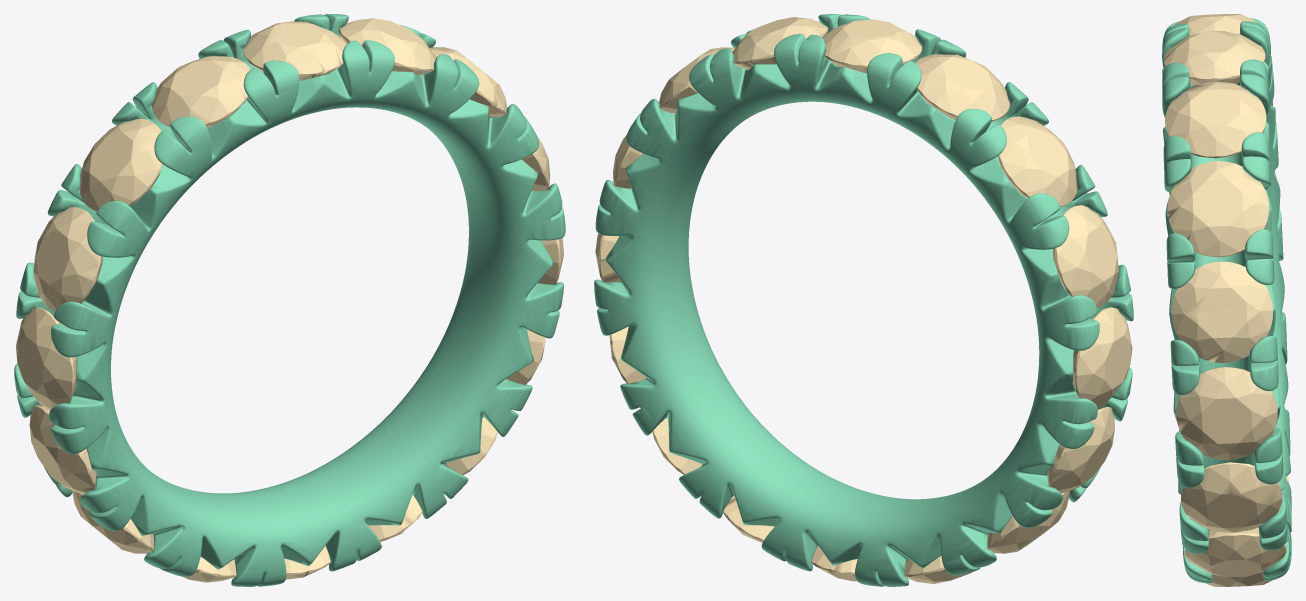
3 renders of one model, left to right at view 1: azimuth 30°, elevation 25°; view 2: azimuth 150°, elevation 25°; view 3: azimuth 270°, elevation 25°, orthographic. The views are drawn at different scales.
Visible parts, largest first — view 1: Metal02, Diamond_Round.012, Diamond_Round.013, Diamond_Round.011, Diamond_Round.014, Diamond_Round.010, Diamond_Round.015, Diamond_Round.009, Diamond_Round.001, Diamond_Round.008, Diamond_Round, Diamond_Round.005 (+4 smaller); view 2: Metal02, Diamond_Round.012, Diamond_Round.011, Diamond_Round.013, Diamond_Round.010, Diamond_Round.014, Diamond_Round.009, Diamond_Round.015, Diamond_Round.008, Diamond_Round.001, Diamond_Round.007, Diamond_Round (+5 smaller); view 3: Metal02, Diamond_Round.002, Diamond_Round.001, Diamond_Round.003, Diamond_Round.015, Diamond_Round.004, Diamond_Round.014, Diamond_Round, Diamond_Round.013, Diamond_Round.005.
Part boxes in pixels (x1,y1,x2,y2): Metal02: (14,14,565,586); Diamond_Round.012: (79,118,162,211); Diamond_Round.013: (152,56,250,127); Diamond_Round.011: (33,207,102,311); Diamond_Round.014: (243,21,346,80); Diamond_Round.010: (15,307,76,410); Diamond_Round.015: (339,18,436,75); Diamond_Round.009: (29,405,96,494); Diamond_Round.001: (429,47,507,117); Diamond_Round.008: (72,490,153,553); Diamond_Round: (445,417,497,474); Diamond_Round.005: (368,495,422,541); Metal02: (594,14,1133,586); Diamond_Round.012: (998,116,1077,206); Diamond_Round.011: (1053,205,1118,307); Diamond_Round.013: (916,54,1009,121); Diamond_Round.010: (1073,307,1132,408); Diamond_Round.014: (822,19,922,73); Diamond_Round.009: (1047,406,1114,493); Diamond_Round.015: (732,17,828,69); Diamond_Round.008: (987,491,1069,553); Diamond_Round.001: (659,47,735,113); Diamond_Round.007: (904,534,988,583); Diamond_Round: (652,418,701,474); Metal02: (1162,18,1291,583); Diamond_Round.002: (1171,261,1272,362); Diamond_Round.001: (1167,161,1269,257); Diamond_Round.003: (1176,367,1277,459); Diamond_Round.015: (1165,81,1266,158); Diamond_Round.004: (1181,462,1282,532); Diamond_Round.014: (1164,31,1265,85); Diamond_Round: (1185,527,1286,577); Diamond_Round.013: (1175,14,1266,35); Diamond_Round.005: (1206,572,1271,586).
Bounding box in the file's own units: 22.5 × 22.57 × 5.11.
